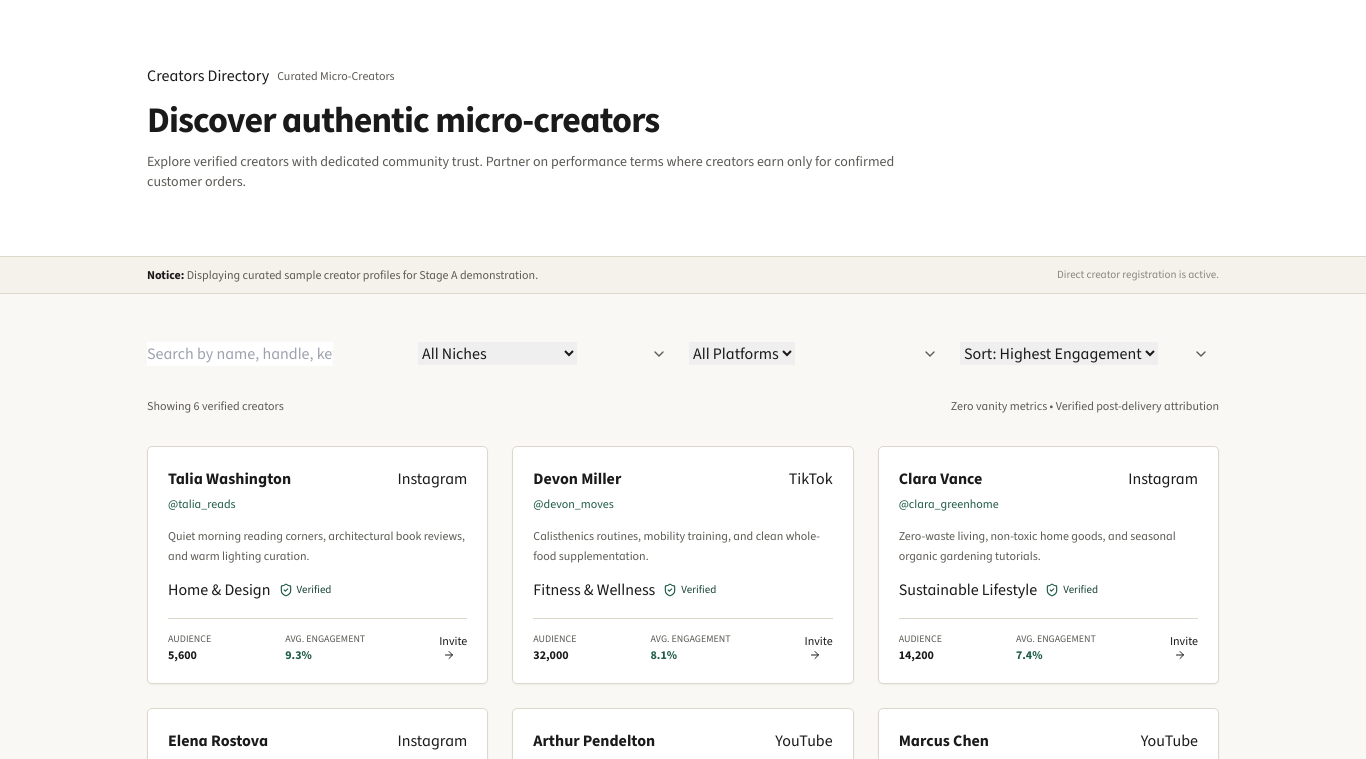
Public Marketing Pages Verification › renders CreatorsDirectoryPage and filters creators interactively
expect the heading "Discover authentic micro-creators" is shown: met, box [147, 96, 659, 144]
expect the heading "Elena Rostova" is shown: met, box [168, 729, 268, 753]
Note: Type a search query that filters
Type "Elena" into the field with placeholder "Search by name, handle, keyword...".
click(240, 354); type("Elena")  # box [147, 342, 333, 366]
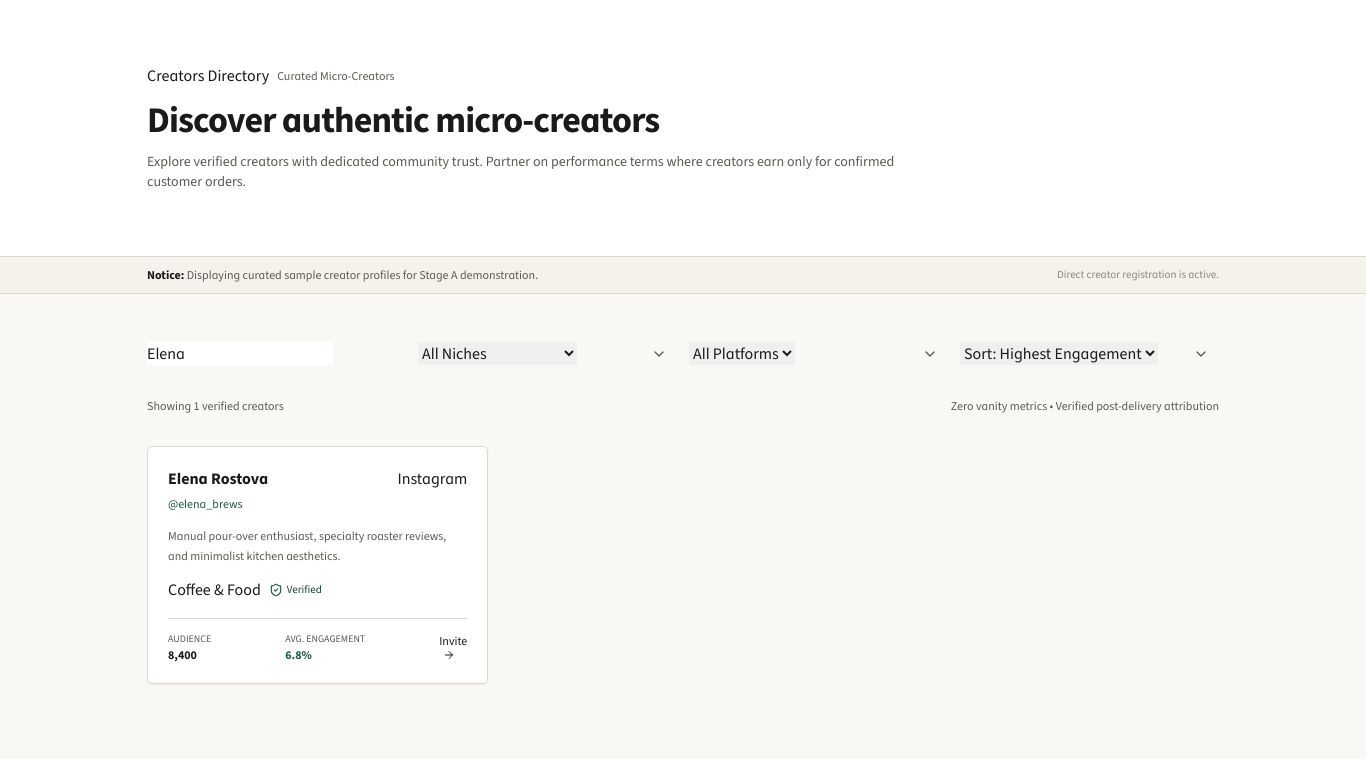
expect the heading "Elena Rostova" is shown: met, box [168, 467, 268, 491]
expect the heading "Marcus Chen" is gone: met
